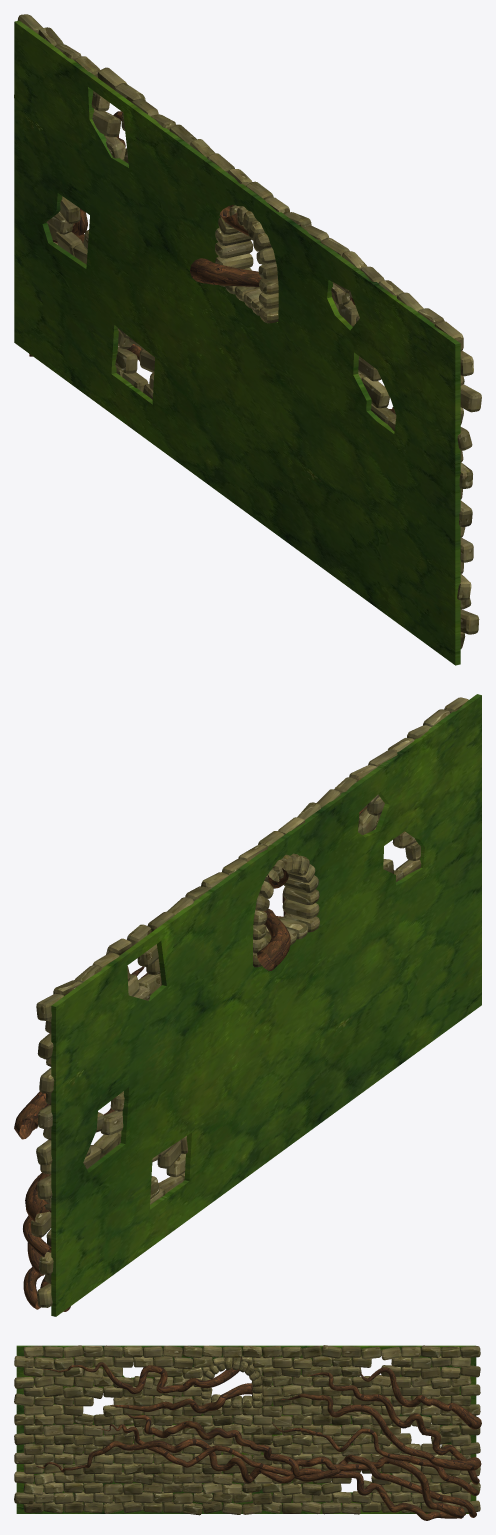
File: muro de pedra com galhos correto.fbx
The picture shows the model from 3 angles, top to bottom: view 1: azimuth 30°, elevation 25°; view 2: azimuth 150°, elevation 25°; view 3: azimuth 270°, elevation 25°; orthographic projection. The views are drawn at different scales.
Parts seen in each view (by area): view 1: plano, tijolos, janela, galhos; view 2: plano, tijolos, janela, galhos; view 3: tijolos, galhos, plano, janela.
Part boxes in pixels (x1,y1,x2,y2): plano: (14, 20, 460, 665); tijolos: (14, 14, 481, 648); janela: (139, 205, 278, 372); galhos: (29, 111, 395, 413); plano: (51, 694, 481, 1316); tijolos: (31, 697, 468, 1307); janela: (157, 853, 319, 1168); galhos: (14, 806, 367, 1311); tijolos: (14, 1345, 480, 1515); galhos: (36, 1357, 481, 1520); plano: (16, 1345, 476, 1513); janela: (34, 1357, 459, 1483).
Bounding box in the file's own units: 499 × 2127 × 5244.
4 materials, 4 textured.
